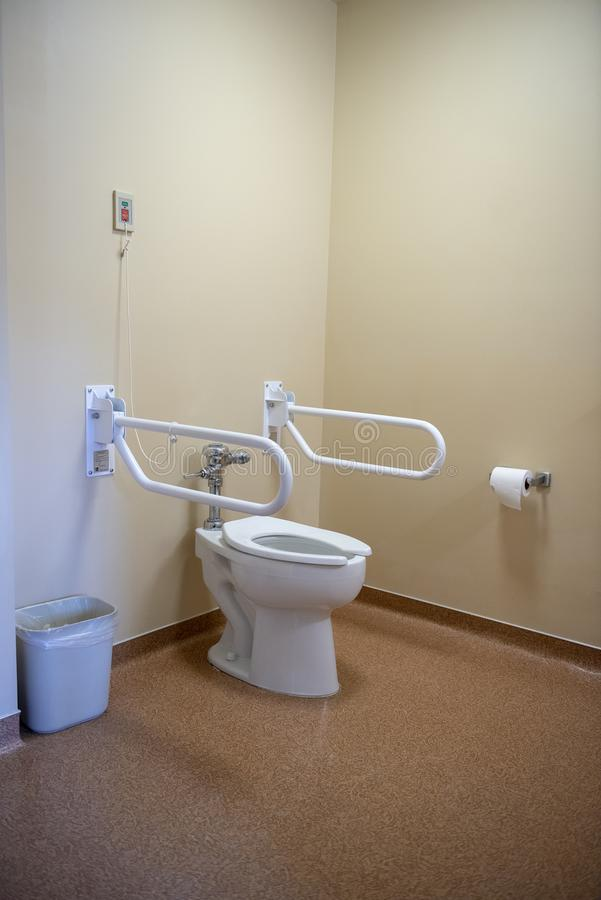dispenser: (487, 465, 552, 512)
restroom_assist_bar: (83, 383, 290, 513), (257, 381, 454, 471)
toilet: (192, 446, 374, 701)
toilet_handle: (178, 469, 211, 480)
waste_bin: (11, 592, 118, 735)
